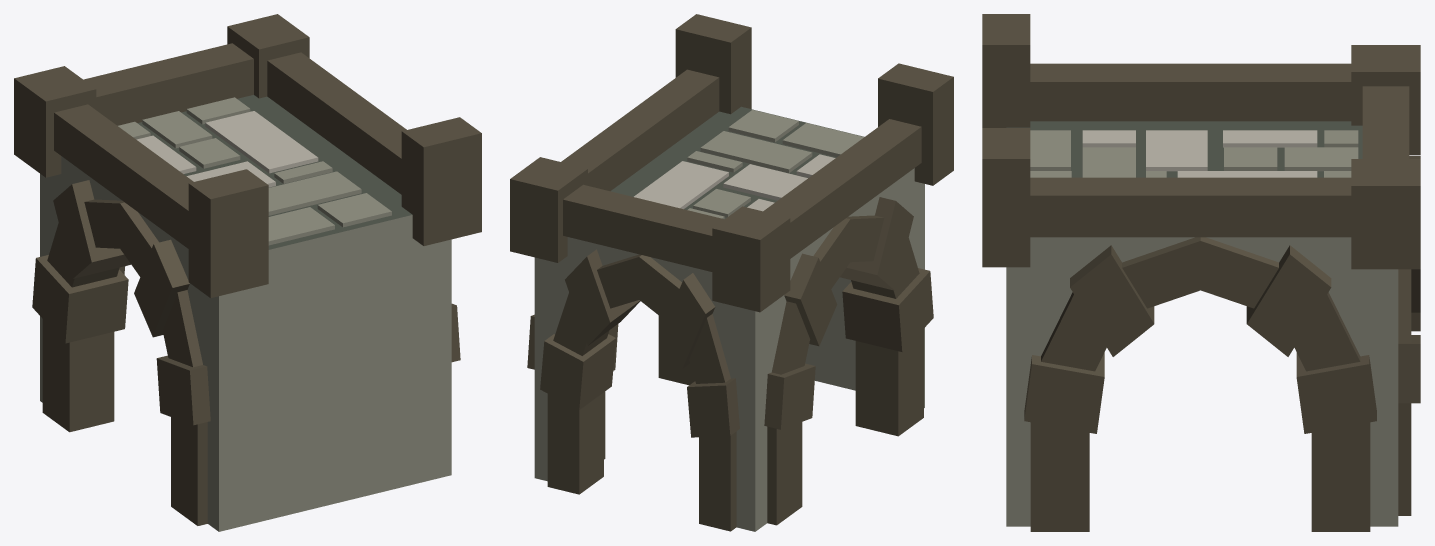
The model's file is DeadEnd.fbx.
3 views of the same model, side by side, from view 1: azimuth 30°, elevation 25°; view 2: azimuth 150°, elevation 25°; view 3: azimuth 270°, elevation 25° (orthographic). The views are drawn at different scales.
Parts seen in each view (by area): view 1: Stone Bridge - Dead End; view 2: Stone Bridge - Dead End; view 3: Stone Bridge - Dead End.
Part boxes in pixels (box(x1,y1,x2,y2)): Stone Bridge - Dead End: box(14, 14, 481, 531); Stone Bridge - Dead End: box(510, 14, 953, 531); Stone Bridge - Dead End: box(982, 14, 1420, 531).
Size of the model in its own units: 70 by 85.16 by 89.48.
